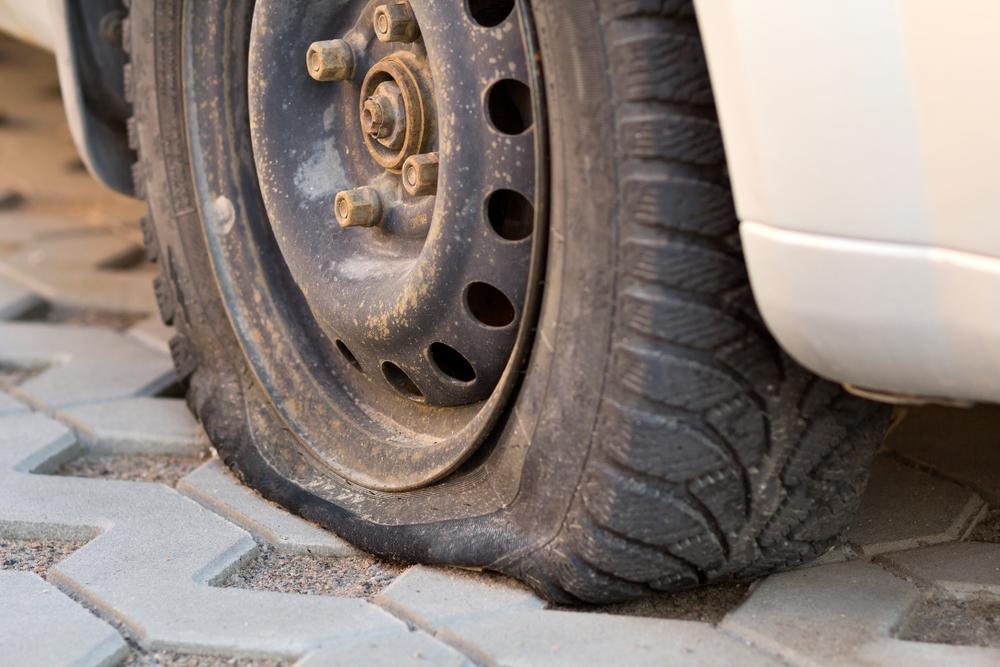tire flat: (124, 0, 883, 601)
